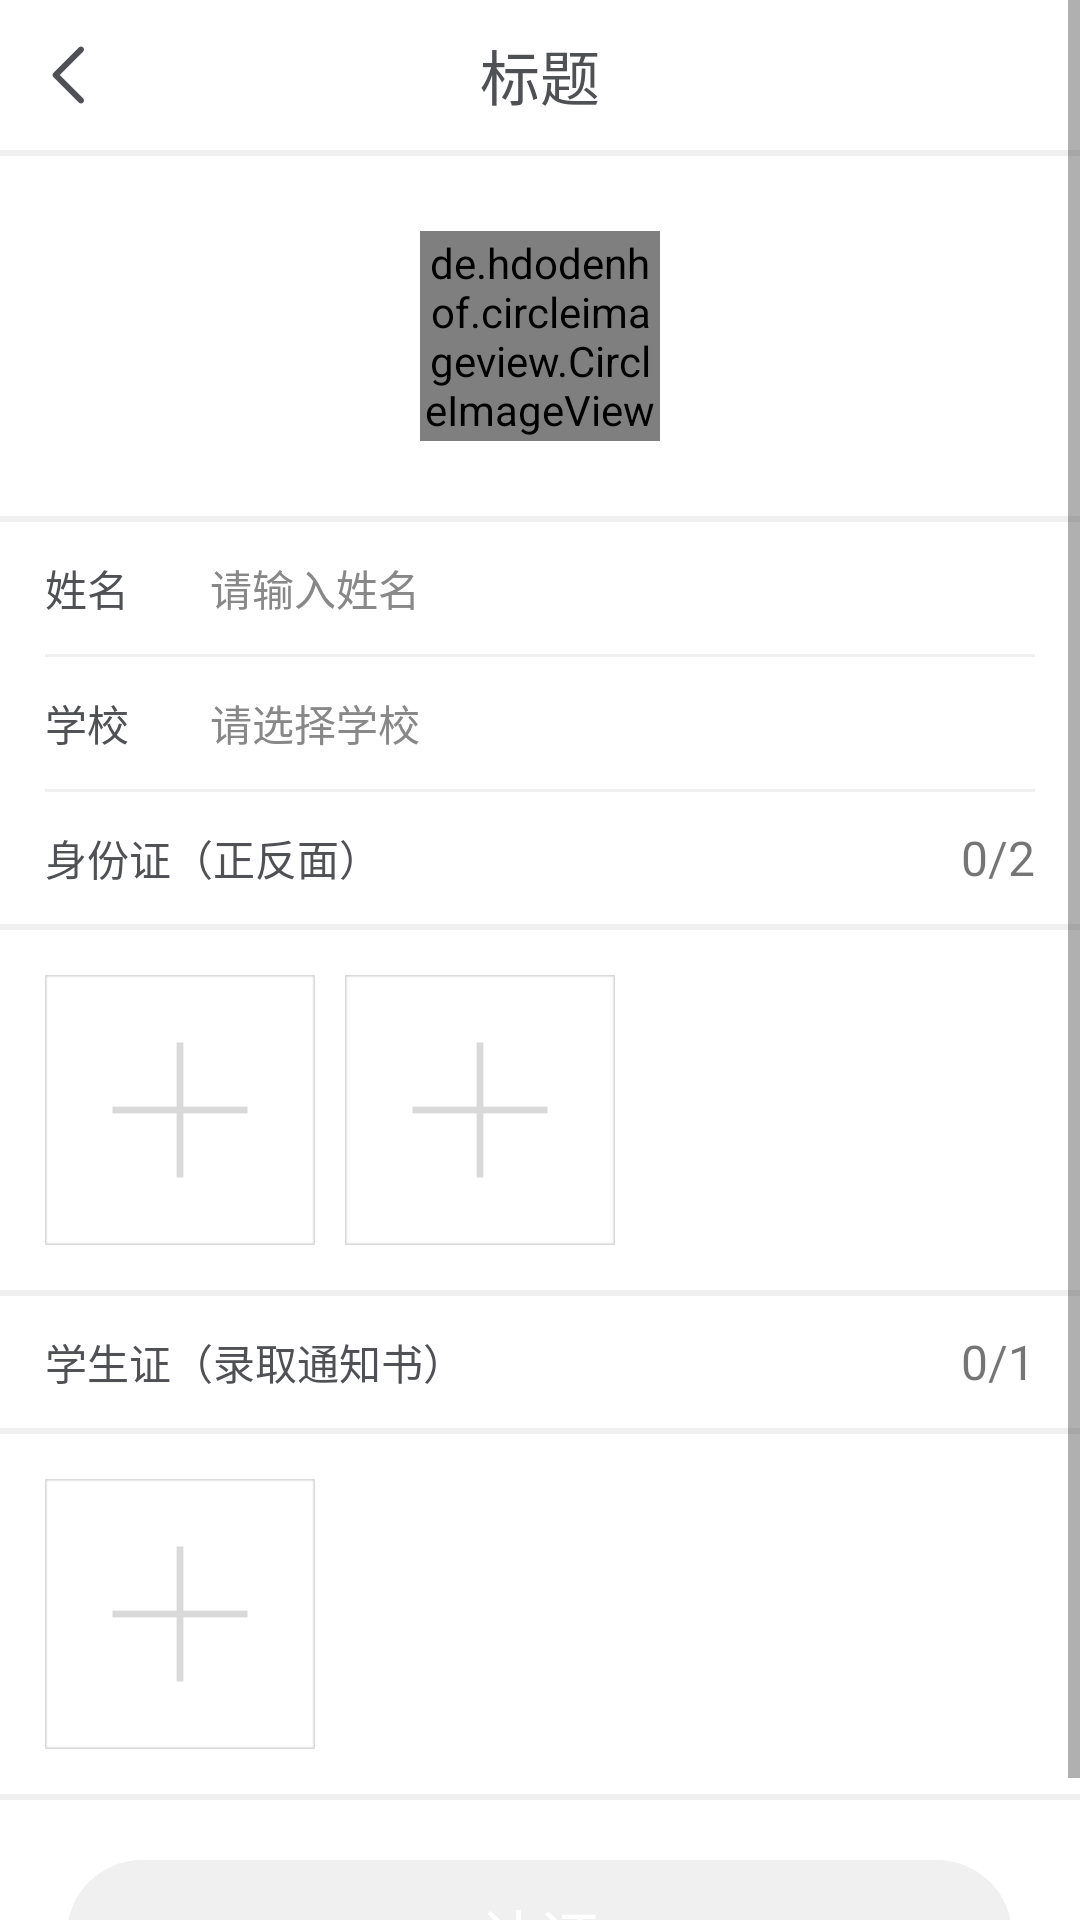

Screen size 1080px x 1920px. Icon name, then its box in pixels as Rect(x1, y1, x2, y2):
add photo: Rect(45, 975, 315, 1245), Rect(345, 975, 615, 1245), Rect(45, 1479, 315, 1749)
back: Rect(52, 46, 84, 104)
